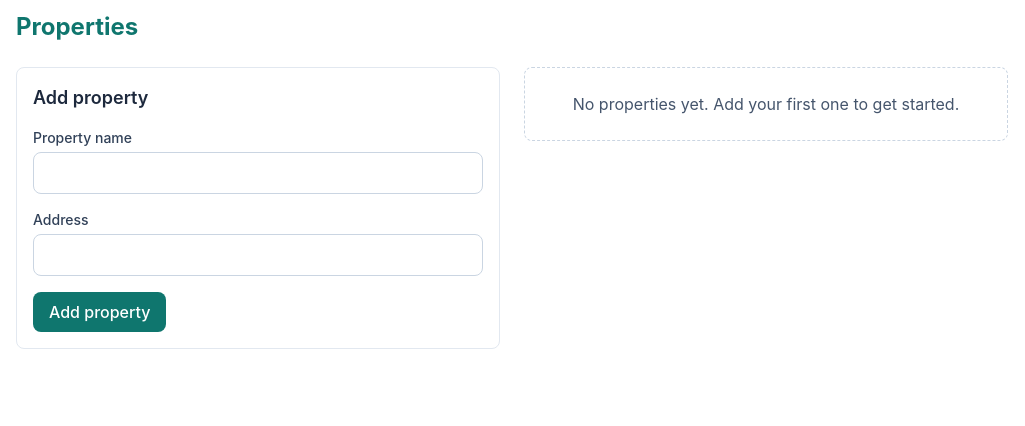
Test: Properties page › shows an error when saving fails
The width and height of the screenshot is (1025, 426).
Type "Sunrise" into the field labelled "Property name". click: (258, 173)
box: [33,152,483,194]
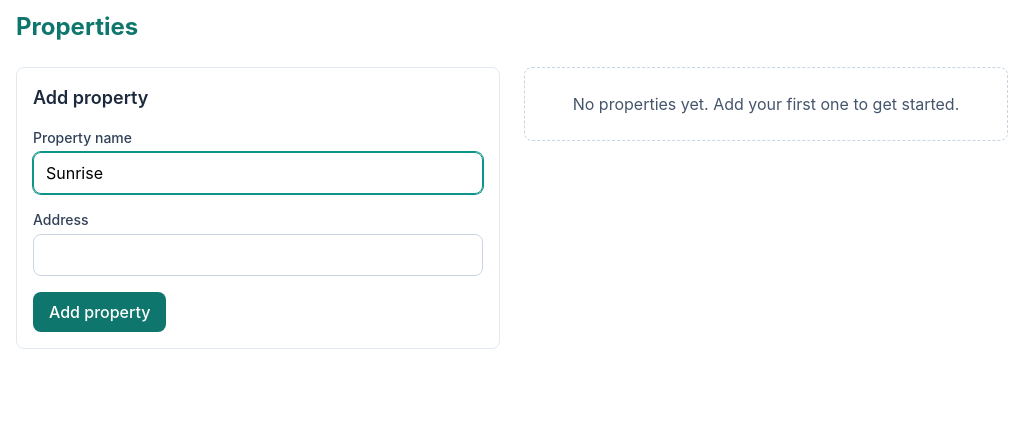
Type "Kilimani" into the field labelled "Address". click: (258, 255)
box: [33,234,483,276]
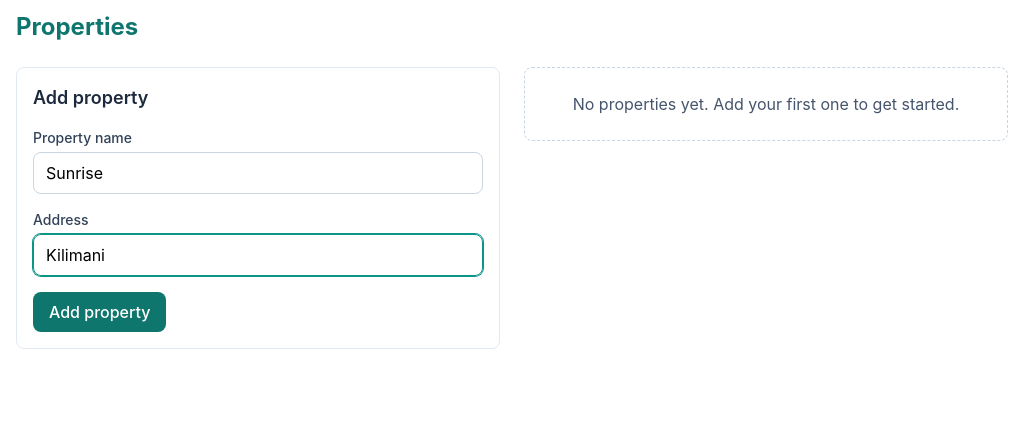
Click the button "Add property". click: (100, 312)
box: [33,292,166,332]
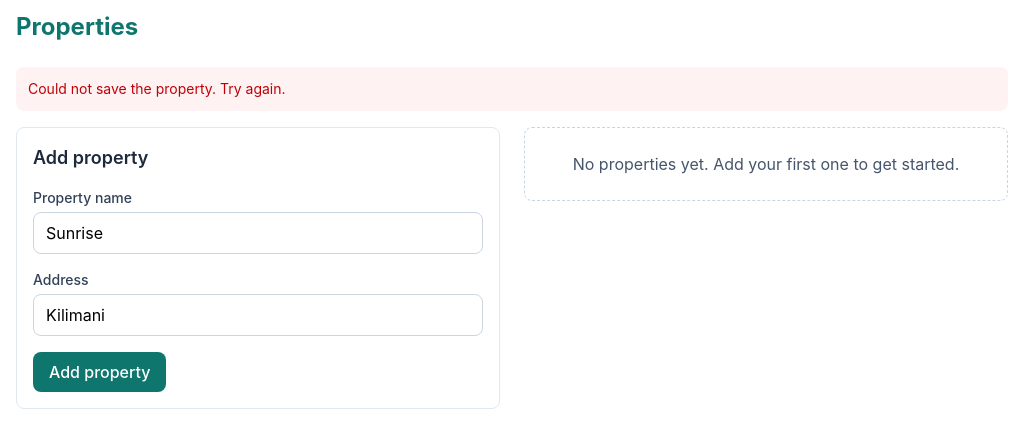
Expected: the message shows "Could not save the property", [28,80,286,97]
